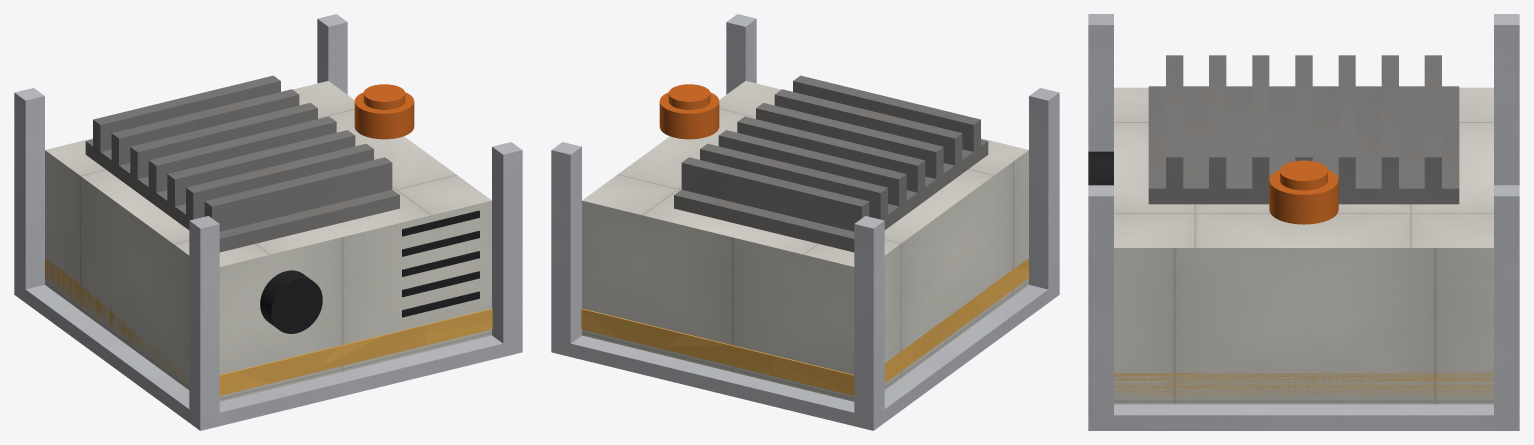
The model's file is sci00_environment_suite.glb.
The picture shows the model from 3 angles, left to right: view 1: azimuth 30°, elevation 25°; view 2: azimuth 150°, elevation 25°; view 3: azimuth 270°, elevation 25°; orthographic projection. The views are drawn at different scales.
Parts seen in each view (by area): view 1: body, sensor_top, slot_frame, gold_trim, vent_grille, camera, port_1; view 2: body, sensor_top, slot_frame, gold_trim, port_1; view 3: body, sensor_top, slot_frame, gold_trim, port_1, camera.
Boxes of the visible parts, bbox=[...] form: body: bbox=[45, 81, 491, 401]; sensor_top: bbox=[85, 75, 399, 252]; slot_frame: bbox=[14, 14, 522, 430]; gold_trim: bbox=[45, 258, 492, 395]; vent_grille: bbox=[402, 210, 479, 317]; camera: bbox=[260, 270, 322, 333]; port_1: bbox=[354, 84, 414, 139]; body: bbox=[582, 81, 1028, 401]; sensor_top: bbox=[674, 75, 988, 252]; slot_frame: bbox=[551, 14, 1059, 430]; gold_trim: bbox=[581, 258, 1028, 395]; port_1: bbox=[659, 84, 719, 139]; body: bbox=[1114, 87, 1493, 404]; sensor_top: bbox=[1148, 55, 1459, 204]; slot_frame: bbox=[1088, 14, 1519, 430]; gold_trim: bbox=[1114, 373, 1493, 396]; port_1: bbox=[1269, 160, 1338, 224]; camera: bbox=[1088, 151, 1113, 185].
Bounding box in the file's own units: 0.5 × 0.3 × 0.5.
6 materials, 4 textured.
